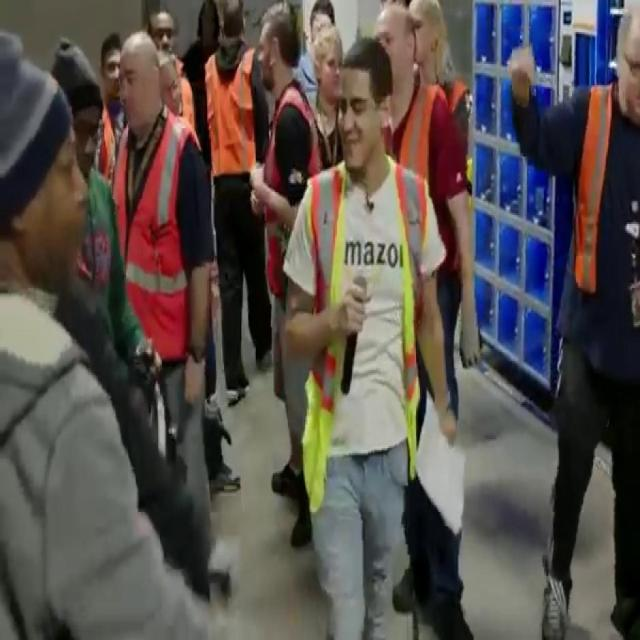person: (281, 34, 456, 639), (506, 5, 639, 638), (0, 7, 109, 640), (108, 32, 218, 605), (368, 0, 494, 416), (39, 26, 163, 419), (247, 0, 335, 551), (256, 1, 329, 554), (208, 0, 279, 404), (401, 0, 480, 193), (303, 17, 359, 147), (147, 46, 198, 132), (94, 29, 136, 117), (145, 0, 190, 71)
